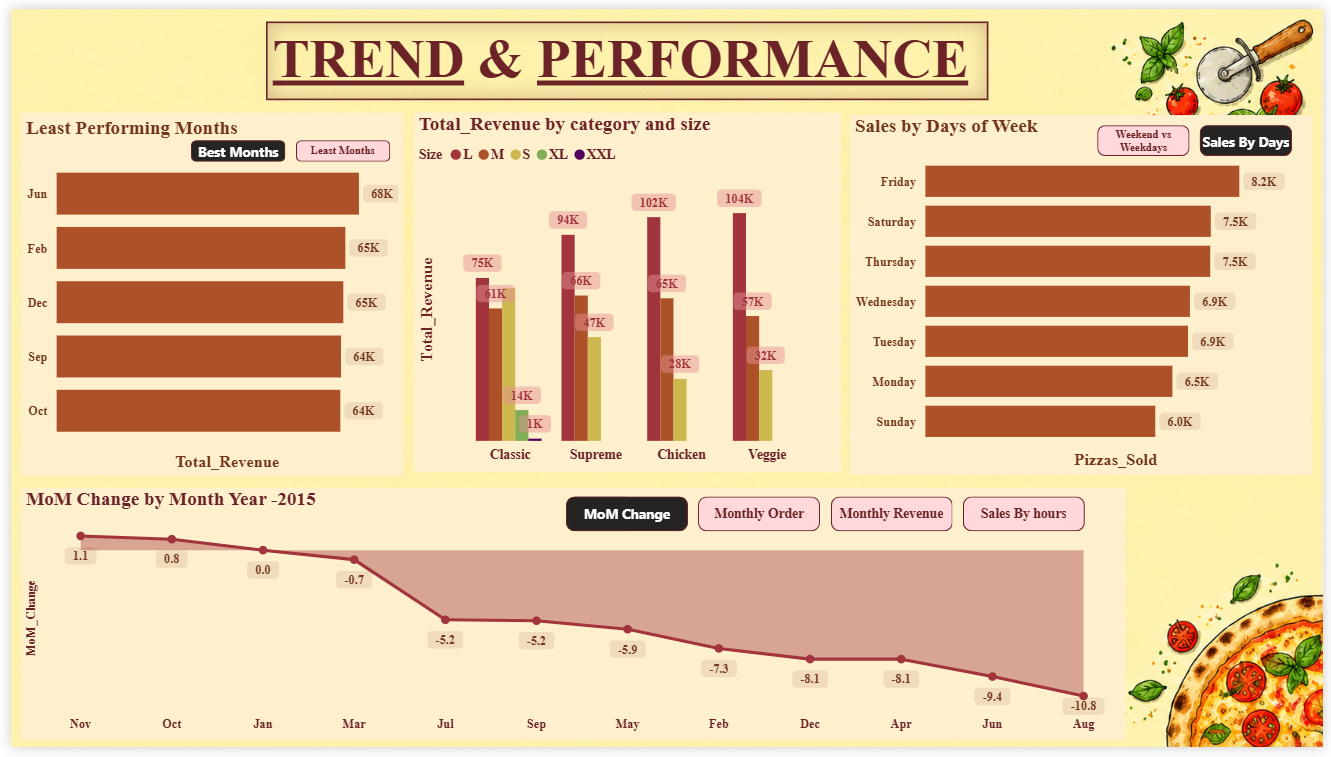

This screenshot's page, from the dashboard's own definition file:
{"tool":"powerbi","page":{"name":"Trend & Performance","canvas":[1280,720],"ordinal":1},"visuals":[{"type":"textbox","box":[248.5,12,704.9,76.8],"z":0},{"type":"lineChart","fields":{"Category":["df_order_pizza.Order_Hour"],"Y":["Measure_Table_1.Pizzas_Sold"]},"box":[9.9,466.7,1077.4,244.5],"z":500},{"type":"lineChart","title":"Monthly Orders Year-2015","fields":{"Y":["Measure_Table_1.Total_Orders"],"Category":["CALENDER.Month Name"]},"box":[9.9,466.7,1077.4,244.5],"z":1000},{"type":"lineChart","title":"Monthly Revenue Year-2015","fields":{"Y":["Measure_Table_1.Total_Revenue"],"Category":["CALENDER.Month Name"]},"box":[9.9,465.5,1077.4,245.8],"z":2000},{"type":"lineChart","title":"MoM Change by Month Year -2015  ","fields":{"Y":["Measure_Table_2.MoM_Change"],"Category":["Calendar.Month Name"]},"box":[9.9,466.7,1077.4,245.8],"z":3000},{"type":"barChart","title":" Least Performing Months ","fields":{"Category":["Calendar.Month Name"],"Y":["Measure_Table_1.Total_Revenue"]},"box":[10,104.3,372.9,350],"z":5000},{"type":"clusteredColumnChart","fields":{"Category":["df_order_pizza.category"],"Y":["Measure_Table_1.Total_Revenue"],"Series":["df_order_pizza.size"]},"box":[392.2,101.8,417.1,350],"z":6000},{"type":"barChart","title":"Sales by Days of Week","fields":{"Category":["Calendar.Day Name"],"Y":["Measure_Table_1.Pizzas_Sold"]},"box":[818,104.3,450.6,350],"z":8000},{"type":"bookmarkNavigator","box":[541.2,475.4,507.7,34.8],"z":9000},{"type":"bookmarkNavigator","box":[175.7,128.6,195.7,21.4],"z":10000},{"type":"bookmarkNavigator","box":[1060,112.9,190,30],"z":11000}]}

Visuals, with their boxes in screenshot pixels (x1, y1, x2, y2), scaled from the page's 1280x720 canvas onto the 1331x757 screenshot:
textbox: rect(258, 13, 991, 93)
lineChart - df_order_pizza.Order_Hour x Measure_Table_1.Pizzas_Sold: rect(10, 491, 1131, 748)
"Monthly Orders Year-2015" lineChart: rect(10, 491, 1131, 748)
"Monthly Revenue Year-2015" lineChart: rect(10, 489, 1131, 748)
"MoM Change by Month Year -2015  " lineChart: rect(10, 491, 1131, 749)
" Least Performing Months " barChart: rect(10, 110, 398, 478)
clusteredColumnChart - df_order_pizza.category x Measure_Table_1.Total_Revenue: rect(408, 107, 842, 475)
"Sales by Days of Week" barChart: rect(851, 110, 1319, 478)
bookmarkNavigator: rect(563, 500, 1091, 536)
bookmarkNavigator: rect(183, 135, 386, 158)
bookmarkNavigator: rect(1102, 119, 1300, 150)
